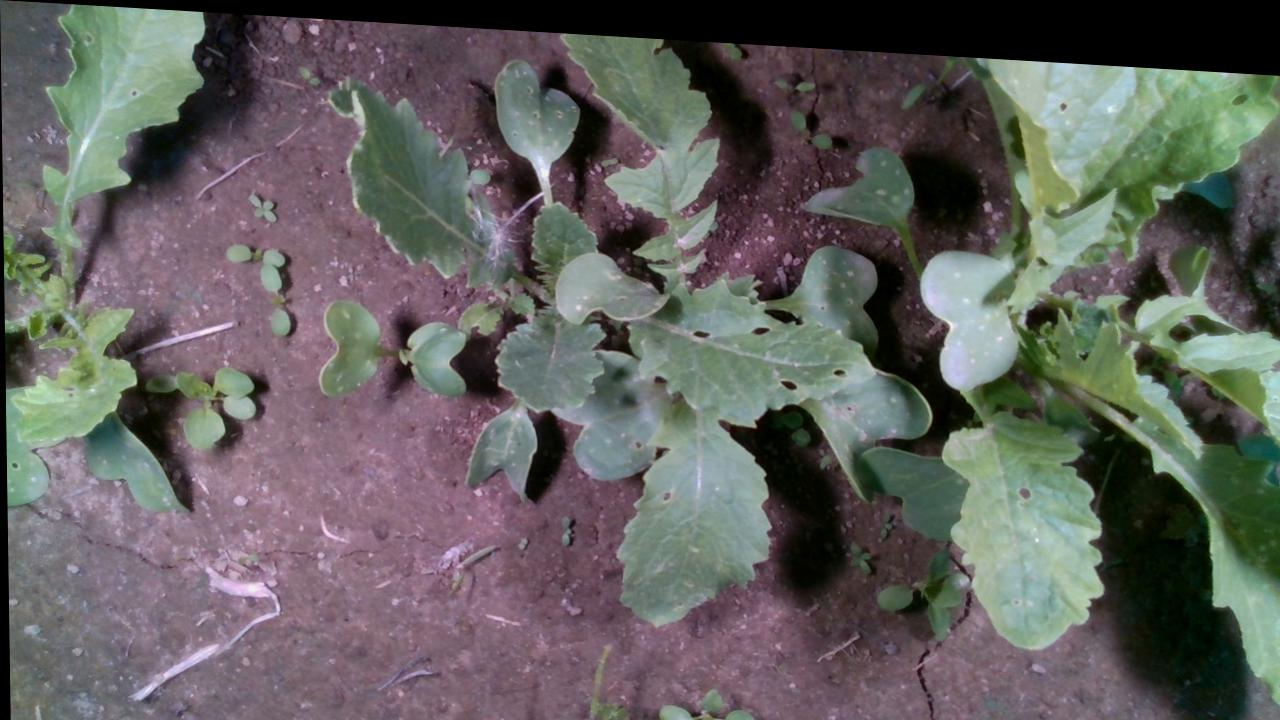weed: (787, 97, 834, 140), (246, 189, 276, 220), (846, 531, 871, 566), (770, 69, 819, 82), (296, 59, 319, 83), (559, 509, 569, 540), (515, 528, 527, 544)
